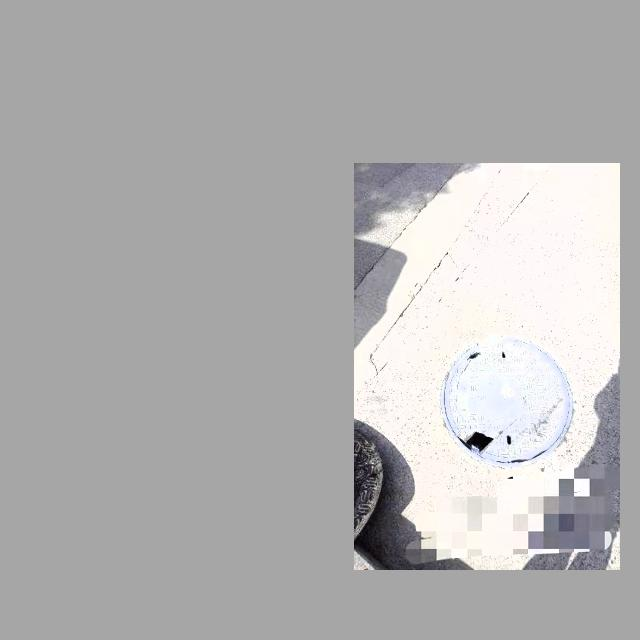broke: (444, 336, 573, 465)
